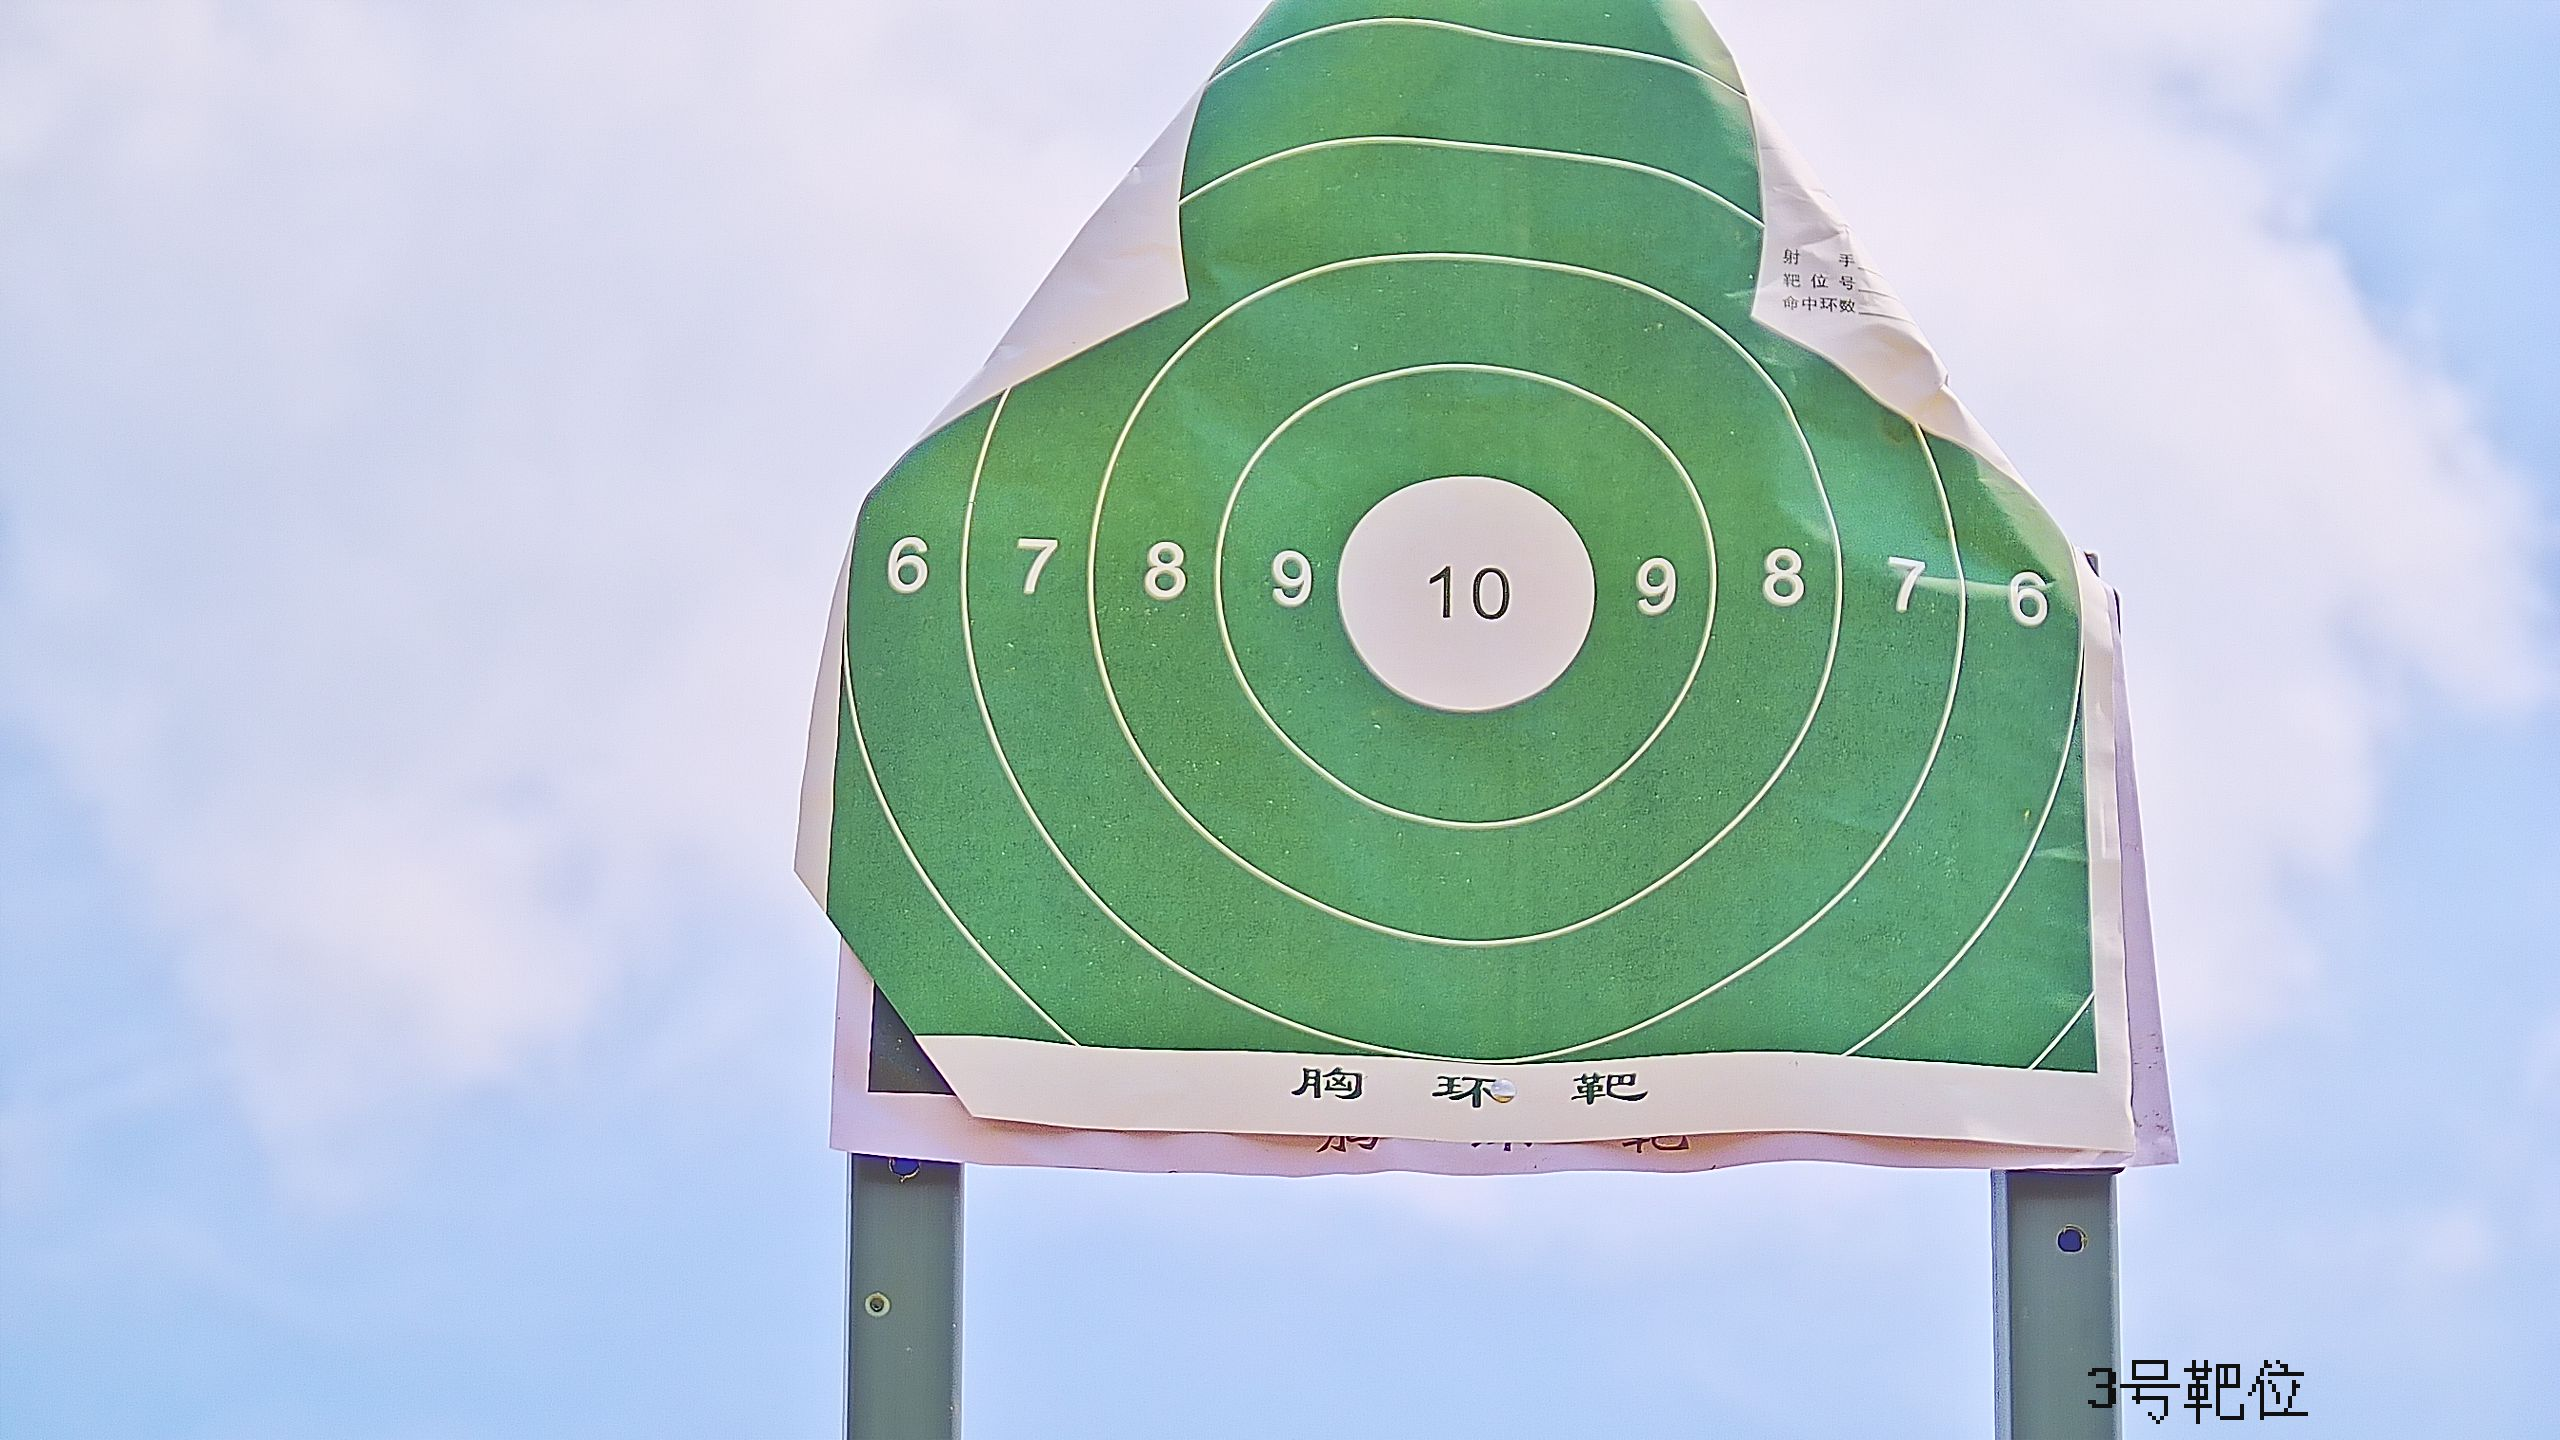kernel: (1465, 591, 1466, 594)
target: (823, 12, 2103, 1080)
ten: (1336, 471, 1595, 712)
